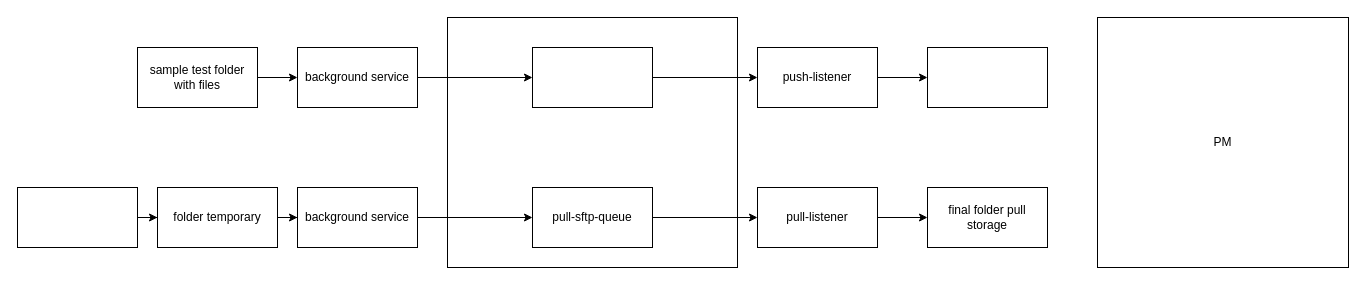
Image size: 1366x285. Some labels were removed from this diagram. The box of each missing label's shape, as (x1, y1, x2, y2) in pixels:
final folder push storage: (926, 46, 1048, 108)
network gateway rabbit: (446, 16, 738, 268)
push-sftp-queue: (532, 46, 652, 108)
sftp server: (16, 186, 138, 248)
